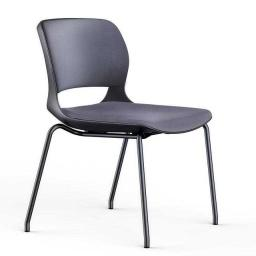Chair: (26, 20, 220, 248)
